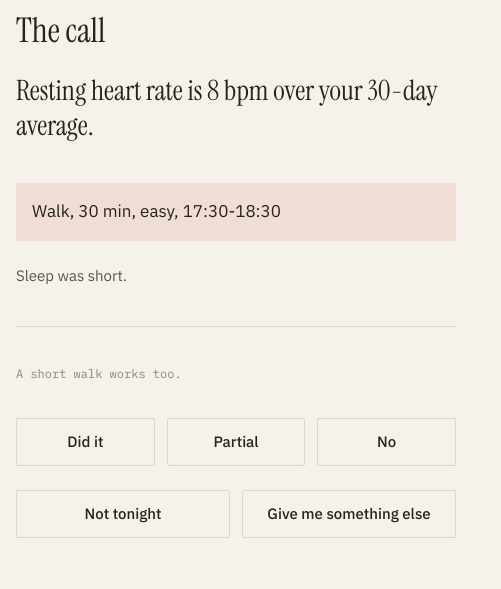
Test case: TheCall › walks through no -> skip reason -> done, with no feel tap
Expected: the text "Resting heart rate is 8 bpm over your 30-day average." is shown, left=16, top=73, right=456, bottom=143
Step 1. Click the button "No" → (387, 442), box left=317, top=418, right=456, bottom=466
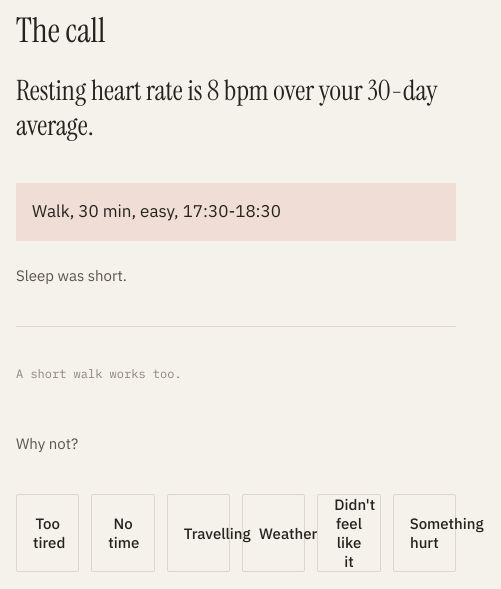
Expected: the text "Why not?" is shown, left=16, top=434, right=78, bottom=453
Step 2. Click the button "Too tired" → (48, 533), box left=16, top=494, right=79, bottom=572
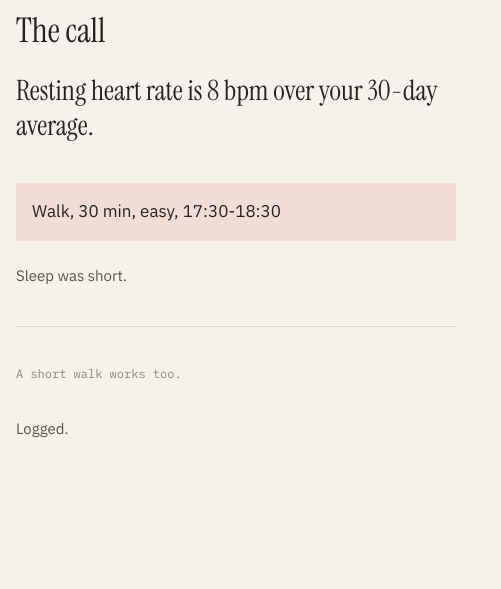
Expected: the text "Logged." is shown, left=16, top=419, right=69, bottom=438
